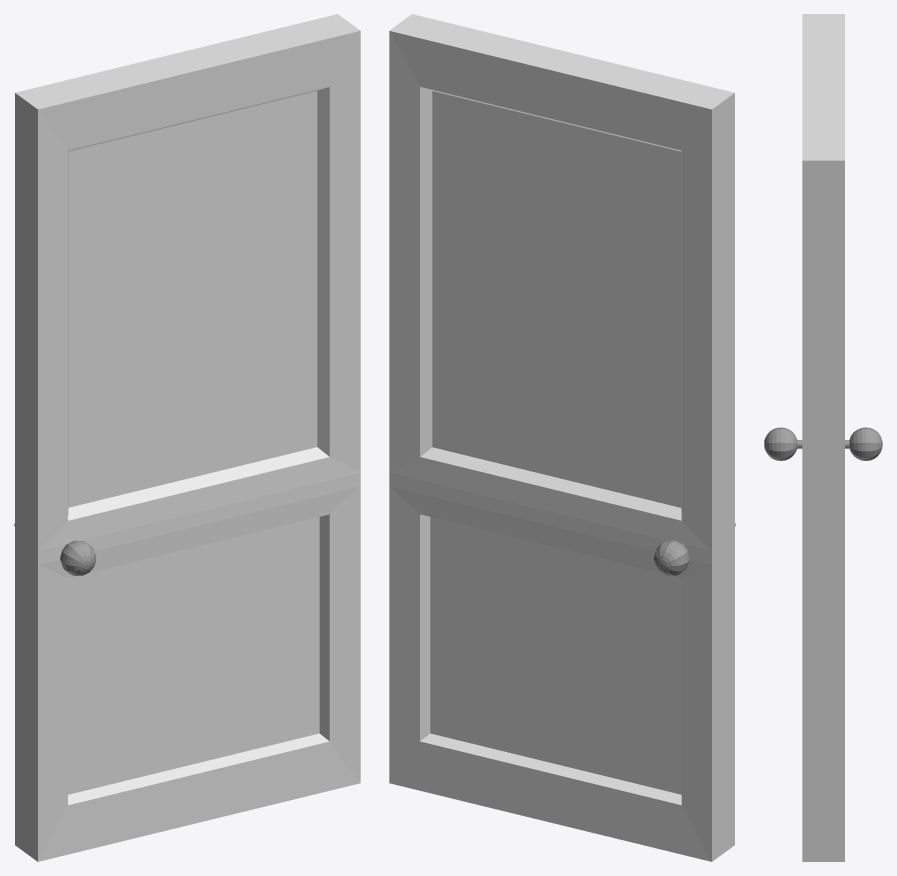
Rendered from Door_05_dra.glb.
The picture shows the model from 3 angles, left to right: view 1: azimuth 30°, elevation 25°; view 2: azimuth 150°, elevation 25°; view 3: azimuth 270°, elevation 25°; orthographic projection. The views are drawn at different scales.
Visible parts, largest first — view 1: Door_05; view 2: Door_05; view 3: Door_05.
Part boxes in pixels (x1,y1,x2,y2): Door_05: (14, 14, 360, 861); Door_05: (389, 14, 735, 861); Door_05: (764, 14, 882, 861).
Bounding box in the file's own units: 0.9154 × 2.04 × 0.3128.
Materials: 1 (1 with a texture image).
